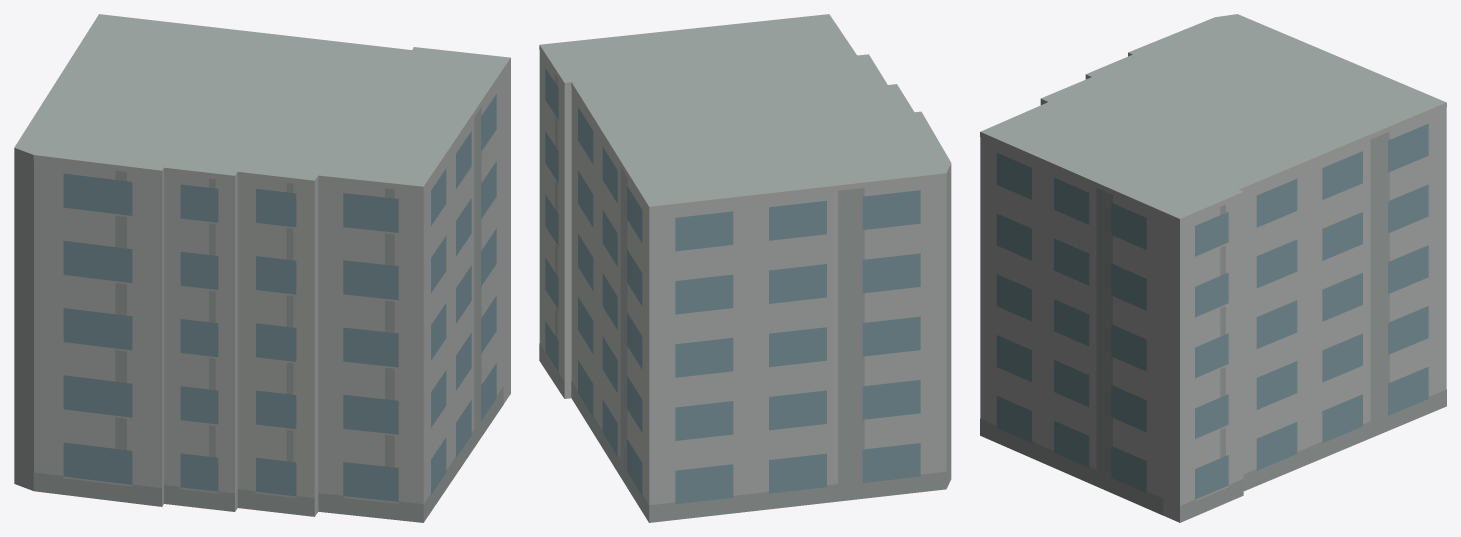
The model's file is survey-upis-32608726.glb.
3 views of the same model, side by side, from view 1: azimuth 30°, elevation 25°; view 2: azimuth 150°, elevation 25°; view 3: azimuth 270°, elevation 25° (orthographic). The views are drawn at different scales.
Visible parts, largest first — view 1: survey-upis-32608726.tmp; view 2: survey-upis-32608726.tmp; view 3: survey-upis-32608726.tmp.
Boxes of the visible parts, bbox=[...] form: survey-upis-32608726.tmp: bbox=[14, 14, 510, 522]; survey-upis-32608726.tmp: bbox=[539, 14, 951, 522]; survey-upis-32608726.tmp: bbox=[980, 14, 1446, 522].
Bounding box in the file's own units: 20.99 × 14.5 × 20.18.
